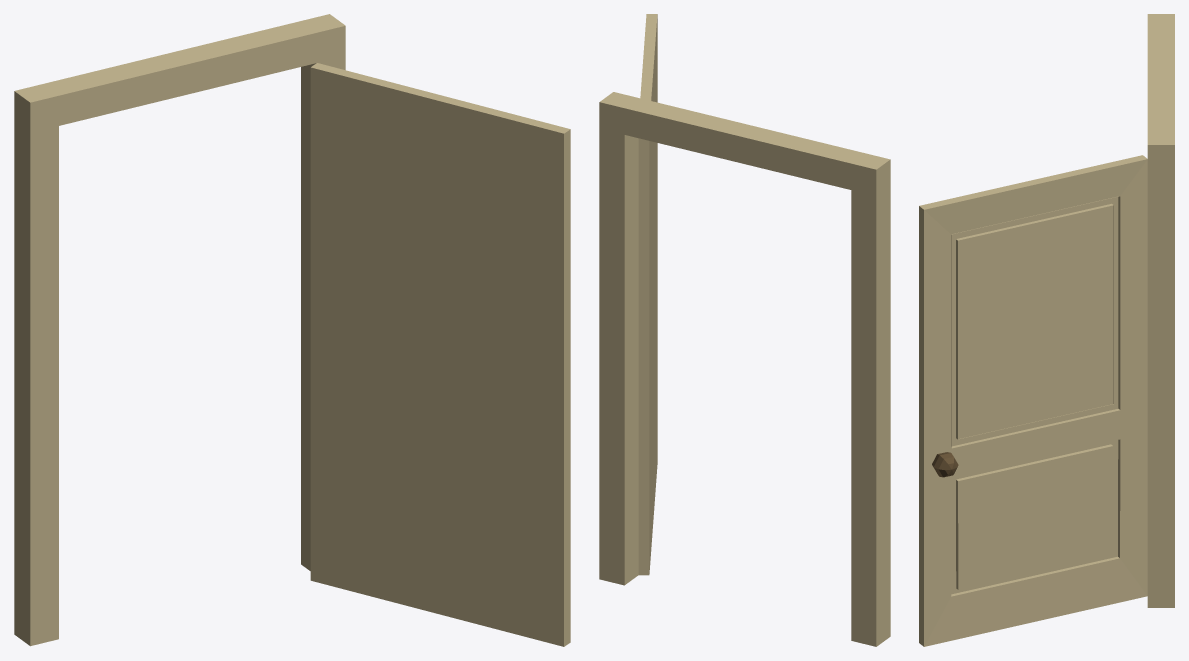
Rendered from OPENED_DOOR.fbx.
The picture shows the model from 3 angles, left to right: view 1: azimuth 30°, elevation 25°; view 2: azimuth 150°, elevation 25°; view 3: azimuth 270°, elevation 25°; orthographic projection. The views are drawn at different scales.
Visible parts, largest first — view 1: pCube216; view 2: pCube216; view 3: pCube216, pSphere26.
Boxes of the visible parts, x1,y1,x2,y2 form: pCube216: (14, 14, 570, 646); pCube216: (599, 14, 890, 646); pCube216: (919, 14, 1174, 646); pSphere26: (932, 452, 958, 477).
Size of the model in its own units: 6.77 by 8.38 by 4.2.
